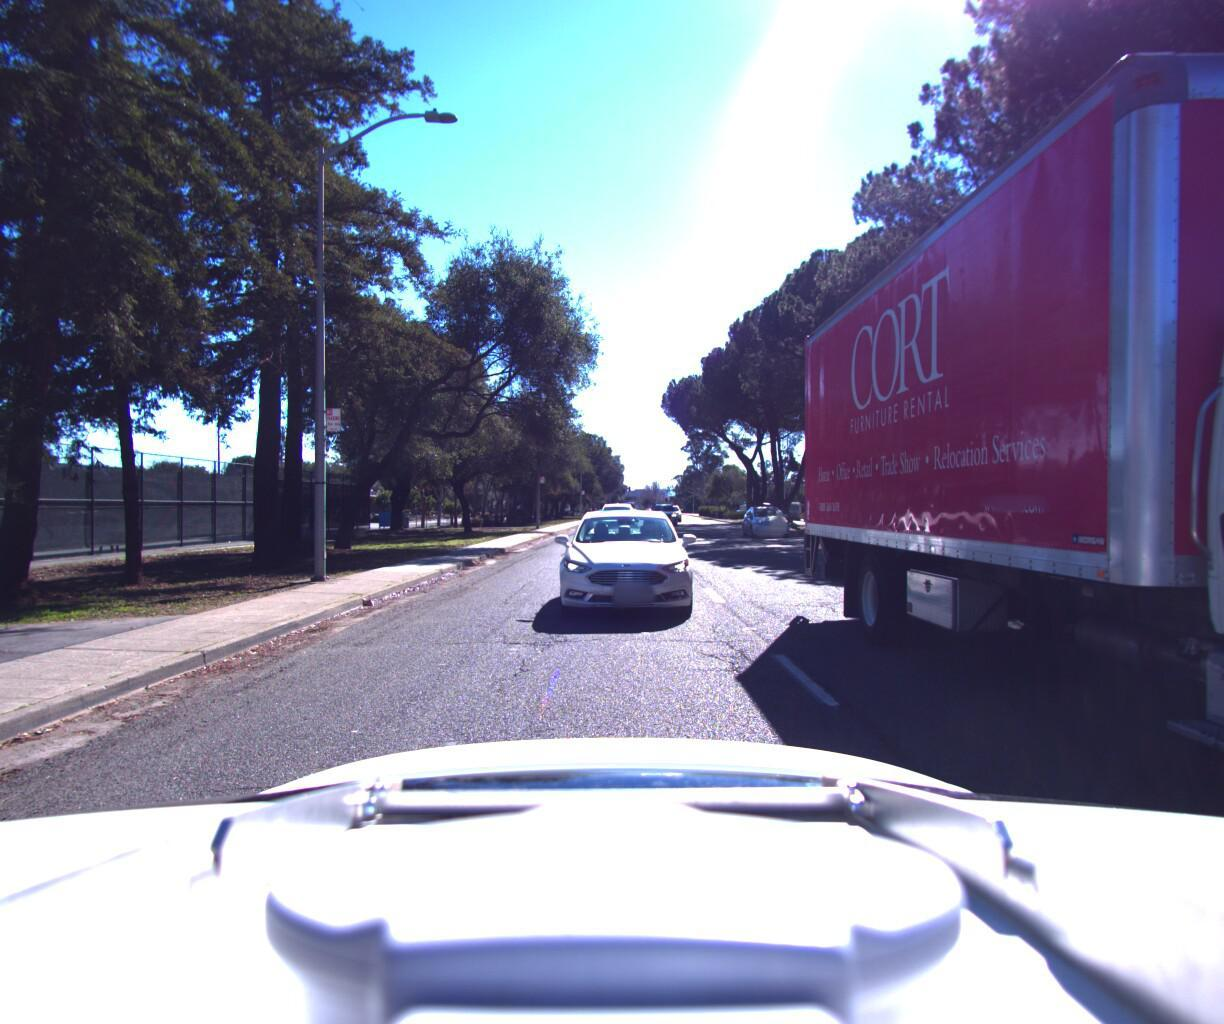car: (543, 502, 708, 640), (743, 497, 803, 538), (596, 498, 641, 538), (650, 499, 679, 523)
